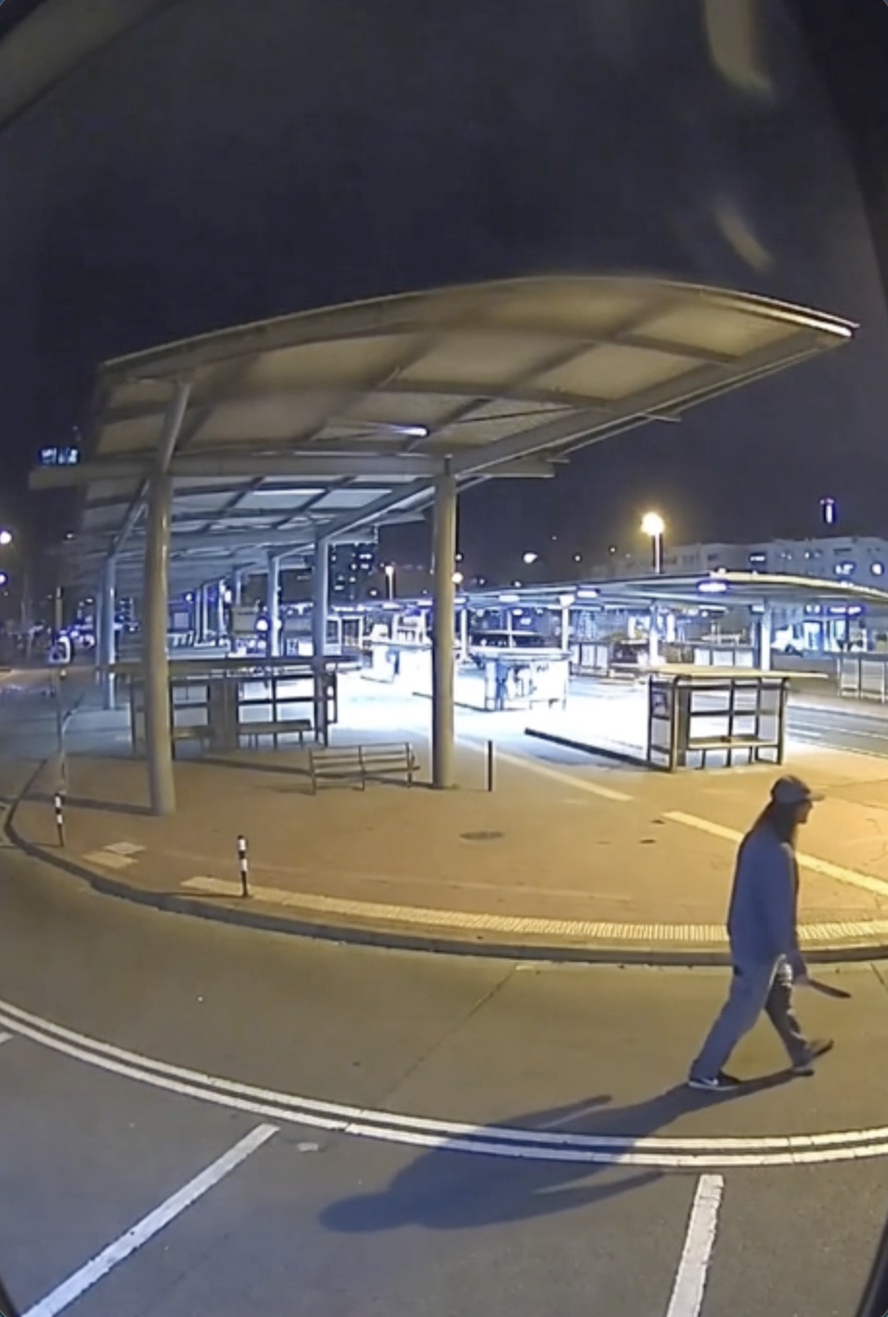Heavy Gun: (680, 767, 861, 1100)
Knife: (773, 952, 858, 1007)
